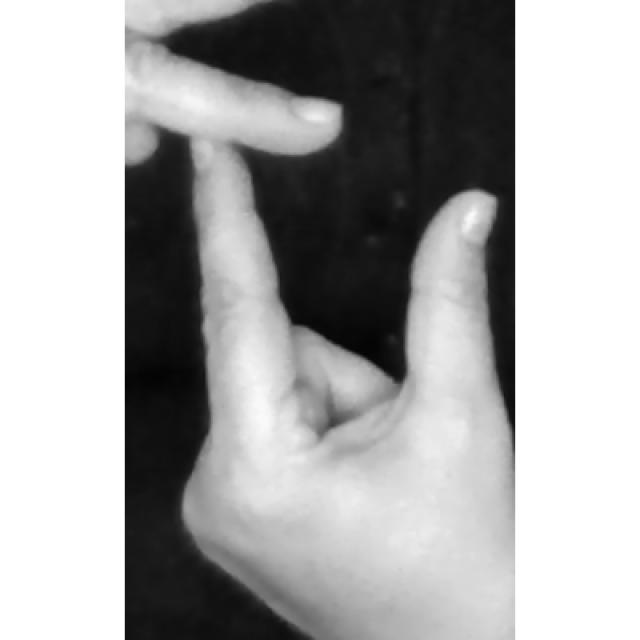U--: (125, 0, 517, 640)
